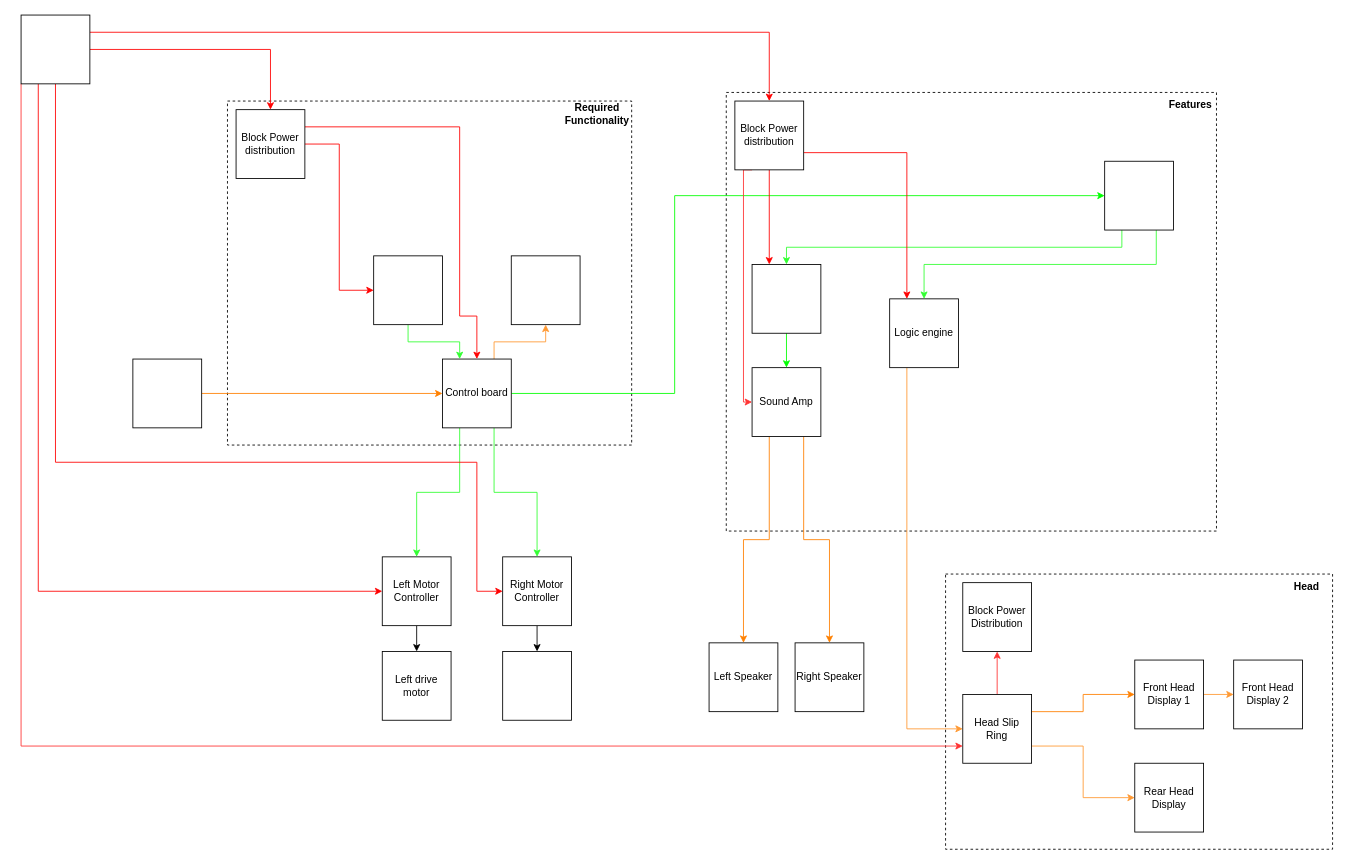
The diagram is 1348 pixels wide and 864 high, and some of its shapes have lost their labels. Each missing label, with the centre of its shape:
Head motor: point 545,290
I2C Bus Block: point 1138,195
Jetson: point 407,290
Power Distribution: point 55,49
RC Reciever: point 167,393
Right drive motor: point 536,685
Sound Trigger Board: point 786,298
